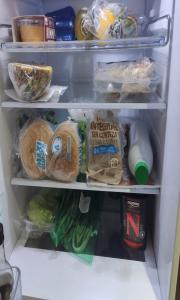Esparrago: (109, 13, 146, 41)
Humus: (10, 14, 56, 42)
Judia verde: (52, 189, 100, 264)
Leche: (127, 119, 155, 184)
Lechuga/Endivia: (26, 192, 59, 234)
Limón: (96, 8, 114, 40)
Pan de sandwich: (88, 110, 123, 186)
Pina: (7, 62, 52, 102)
